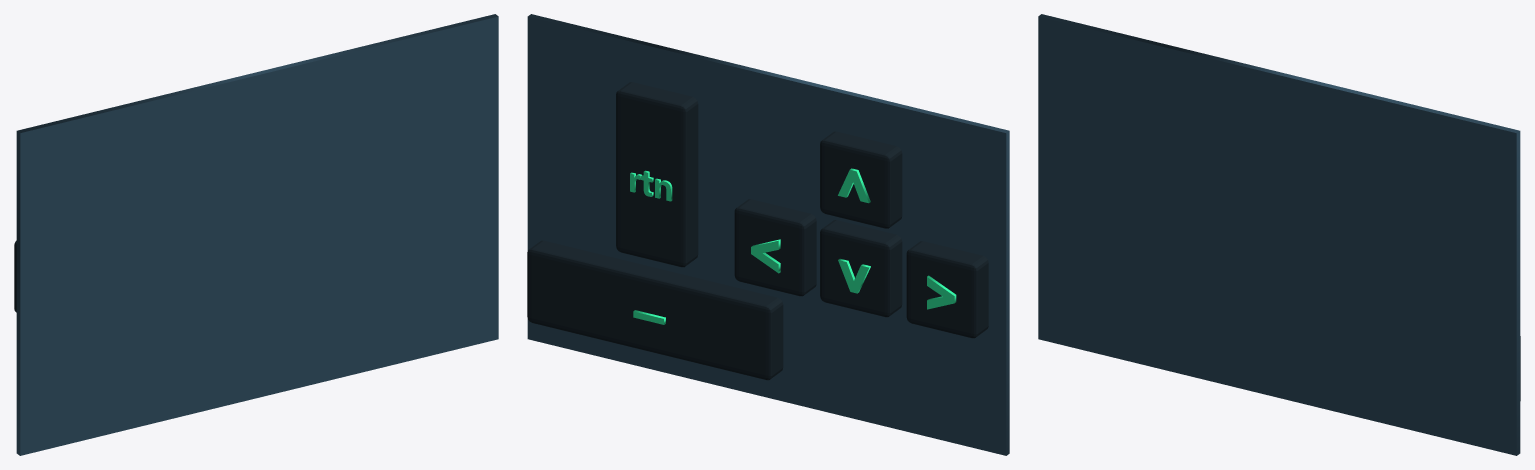
The model's file is Remix_UI_SHADOWS_ 1.fbx.
The picture shows the model from 3 angles, left to right: view 1: azimuth 30°, elevation 25°; view 2: azimuth 150°, elevation 25°; view 3: azimuth 330°, elevation 25°; orthographic projection.
Parts seen in each view (by area): view 1: dot.044; view 2: dot.044, Cube.026, Cube.031, Cube.029, Cube.030, Cube.027, Cube.028, dress me.099, dot.016, dot.040, dot.042, dot.041; view 3: dot.044.
Boxes of the visible parts, x1=… form: dot.044: x1=16, y1=14, x2=498, y2=455; dot.044: x1=527, y1=14, x2=1009, y2=455; Cube.026: x1=527, y1=240, x2=783, y2=380; Cube.031: x1=616, y1=82, x2=698, y2=267; Cube.029: x1=734, y1=199, x2=816, y2=296; Cube.030: x1=906, y1=241, x2=988, y2=338; Cube.027: x1=820, y1=131, x2=902, y2=228; Cube.028: x1=820, y1=220, x2=902, y2=317; dress me.099: x1=630, y1=170, x2=672, y2=201; dot.016: x1=838, y1=168, x2=870, y2=203; dot.040: x1=838, y1=258, x2=870, y2=293; dot.042: x1=751, y1=239, x2=780, y2=273; dot.041: x1=927, y1=275, x2=956, y2=309; dot.044: x1=1038, y1=14, x2=1520, y2=455.
Size of the model in its own units: 200 by 129 by 15.94.
